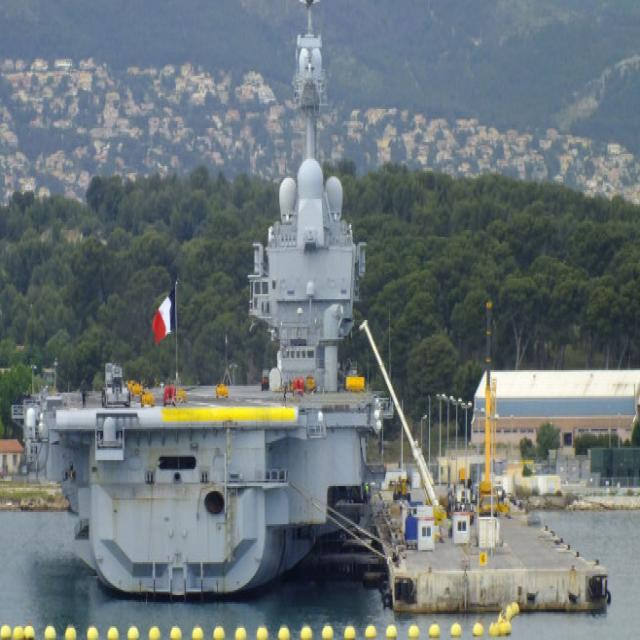Portanaves: (16, 1, 370, 612)
